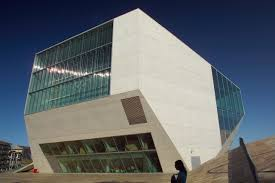musica: (24, 8, 245, 175)
